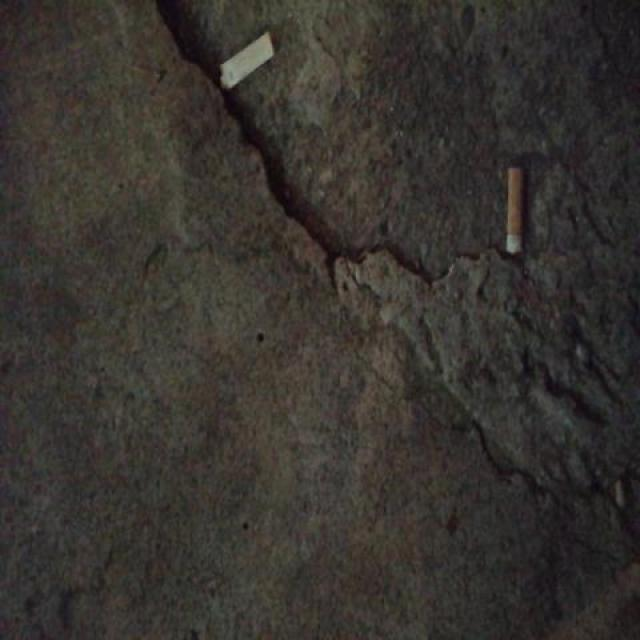non-organic waste: (214, 22, 278, 94), (501, 161, 526, 258)
